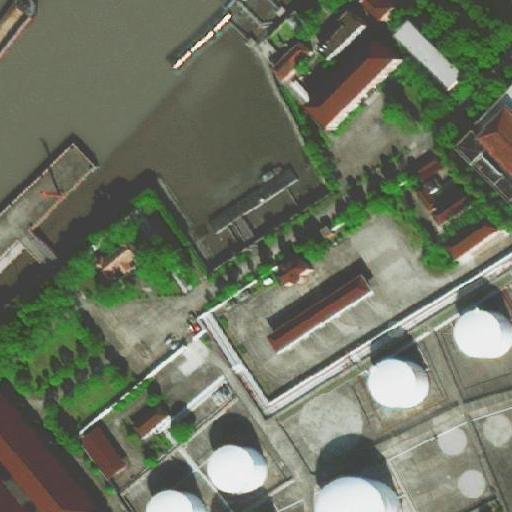building: (302, 31, 411, 135), (265, 268, 376, 351), (393, 23, 464, 92), (412, 164, 474, 230), (470, 98, 511, 185), (314, 473, 403, 512), (368, 356, 431, 410), (207, 445, 269, 496), (451, 308, 511, 359), (314, 8, 368, 58), (81, 420, 128, 475), (445, 214, 498, 259), (271, 37, 315, 82), (254, 7, 297, 48), (130, 402, 171, 441), (144, 487, 205, 511), (275, 249, 312, 285), (103, 242, 140, 277), (410, 152, 443, 185)
